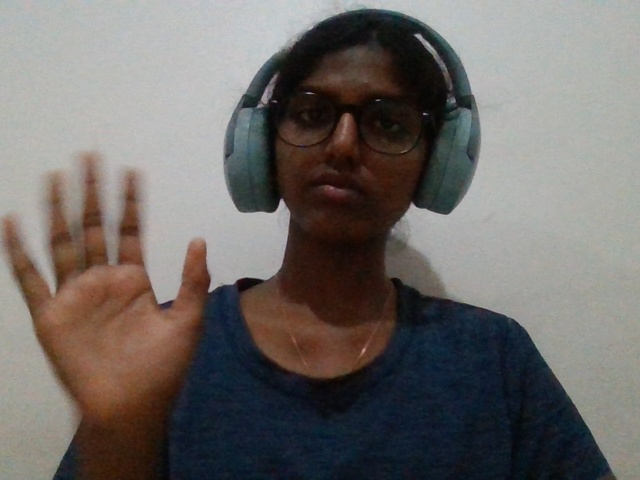Bye: (2, 137, 213, 467)
